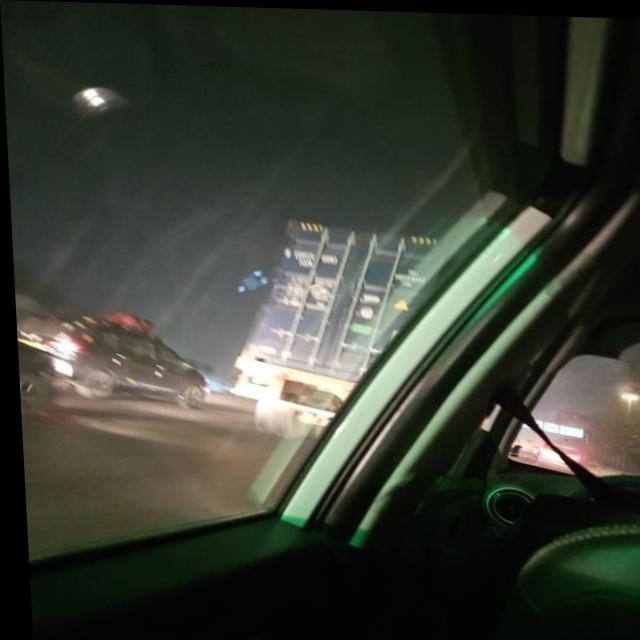covered: (225, 195, 464, 402)
